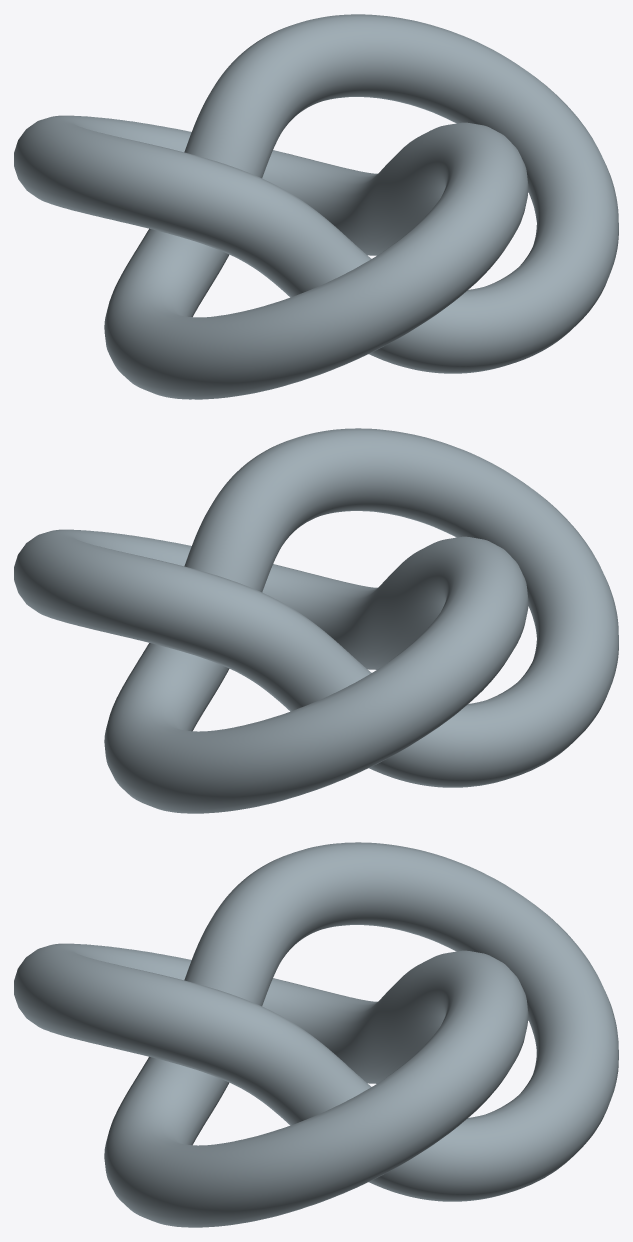
The model's file is knot.glb.
3 views of the same model, one above another, from view 1: azimuth 30°, elevation 25°; view 2: azimuth 150°, elevation 25°; view 3: azimuth 270°, elevation 25° (orthographic).
Visible parts, largest first — view 1: Knot; view 2: Knot; view 3: Knot.
Part boxes in pixels (bbox=[...]): Knot: bbox=[14, 14, 618, 399]; Knot: bbox=[14, 428, 618, 813]; Knot: bbox=[14, 842, 618, 1227].
Bounding box in the file's own units: 5.9 × 2.44 × 6.14.
